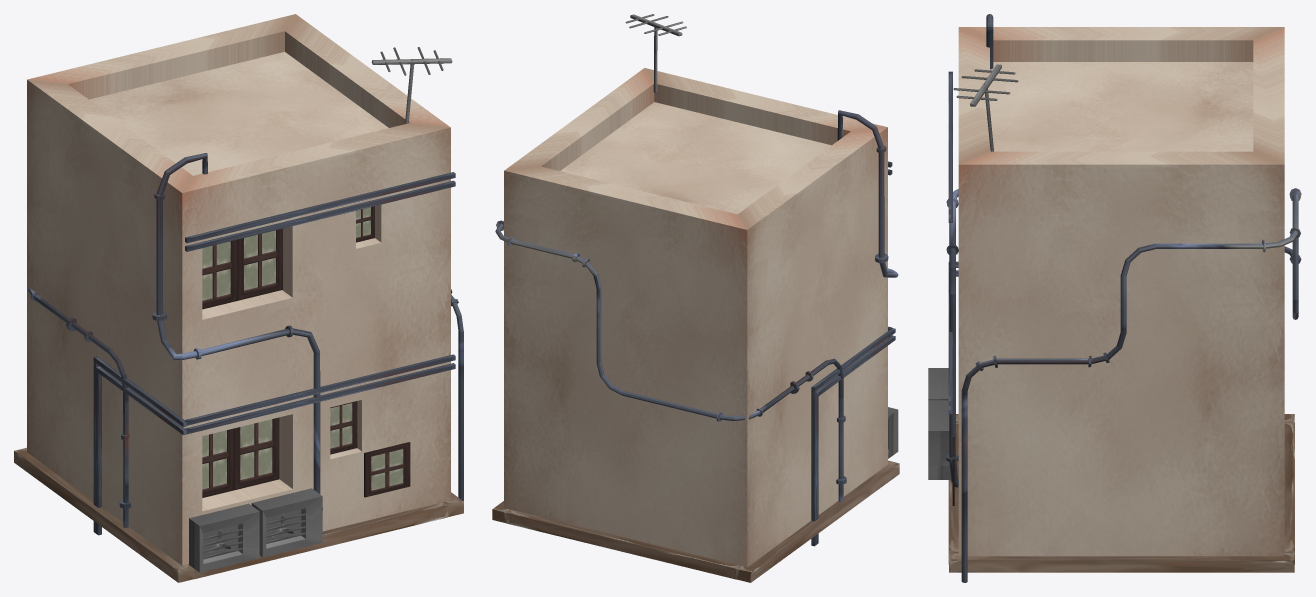
File: Nha 21.fbx
3 renders of one model, left to right at view 1: azimuth 30°, elevation 25°; view 2: azimuth 150°, elevation 25°; view 3: azimuth 270°, elevation 25°, orthographic. The views are drawn at different scales.
Parts seen in each view (by area): view 1: Plane.069; view 2: Plane.069; view 3: Plane.069.
Part boxes in pixels (x1,y1,x2,y2): Plane.069: (14,14,463,582); Plane.069: (492,14,899,582); Plane.069: (928,14,1301,582).
Size of the model in its own units: 739 by 1095 by 755.
